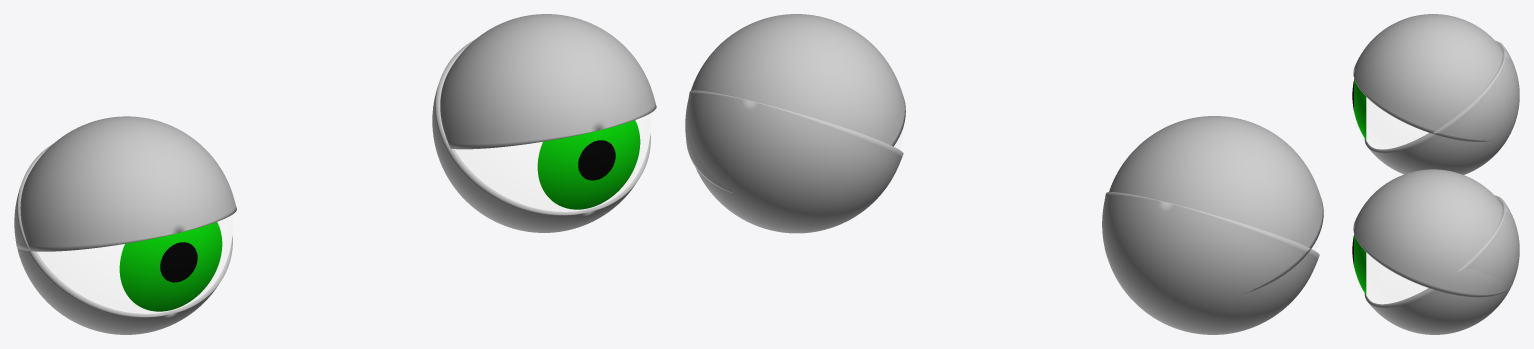
Rendered from Animatronic_Eyes.glb.
The picture shows the model from 3 angles, left to right: view 1: azimuth 30°, elevation 25°; view 2: azimuth 150°, elevation 25°; view 3: azimuth 270°, elevation 25°; orthographic projection. The views are drawn at different scales.
Parts seen in each view (by area): view 1: eye.001, eye, parp_down; view 2: parp_down, eye.001; view 3: eye.001, parp_down, eye.
Part boxes in pixels (x1,y1,x2,y2): eye.001: (16,14,656,251); eye: (37,113,650,313); parp_down: (14,39,650,334); parp_down: (686,90,1319,334); eye.001: (685,14,1323,296); eye.001: (1353,14,1513,297); parp_down: (1364,40,1519,334); eye: (1352,79,1428,304).
Size of the model in its own units: 6.56 by 2.03 by 2.05.
